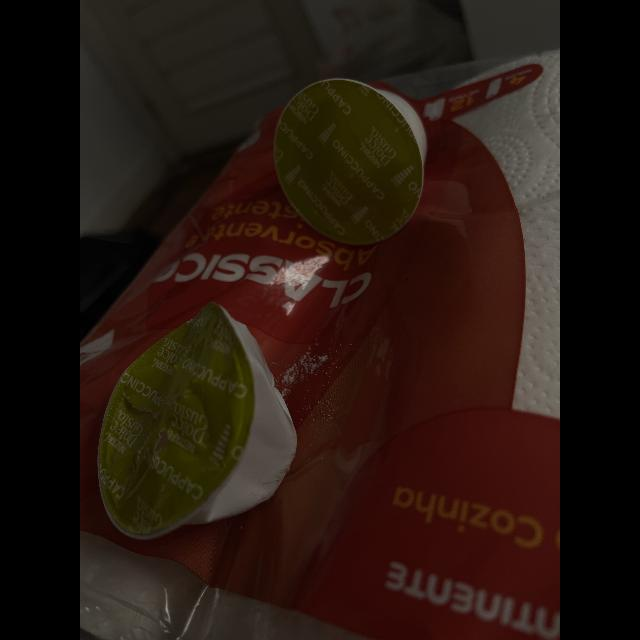damaged_capsule: (97, 293, 300, 541)
intact_capsule: (263, 66, 442, 260)
